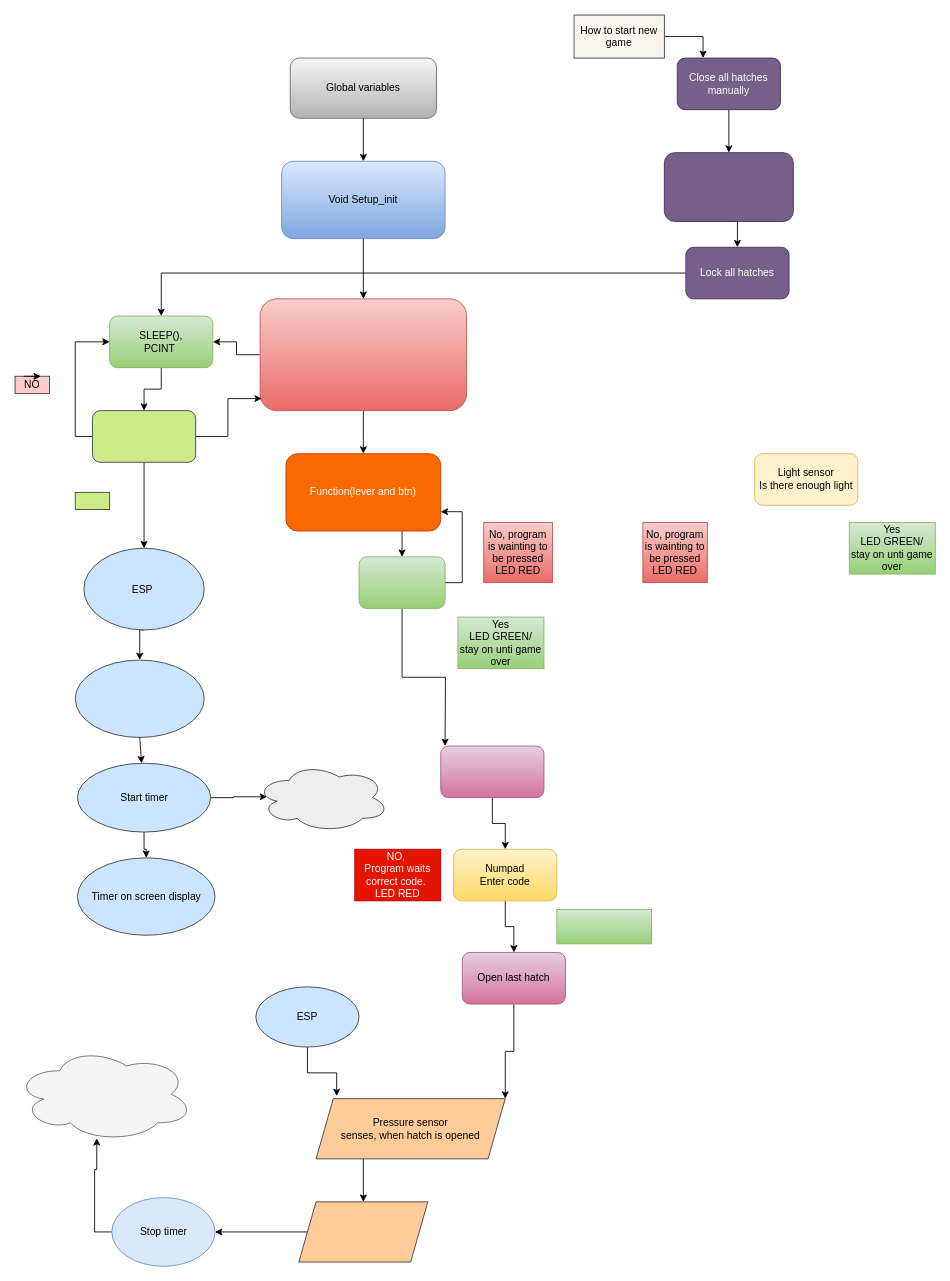
Image size: 950x1281. Some labels were removed from this diagram. Each missing label, with the box of its shape:
Button Btn pressed: (358, 556, 445, 608)
Button Btn pressed?: (92, 410, 196, 462)
Correct LED GREEN/ WAIT GAME OVER: (556, 909, 651, 944)
Gamer over: (298, 1201, 428, 1262)
Int main: (259, 298, 467, 411)
Open hatch: (440, 745, 544, 798)
Reset game() If button pressed: (663, 152, 793, 221)
Screen show password 10sek ?: (74, 659, 204, 737)
Send to database: (255, 762, 389, 832)
Send used time to database: (14, 1046, 194, 1142)
Yes: (74, 491, 110, 510)
